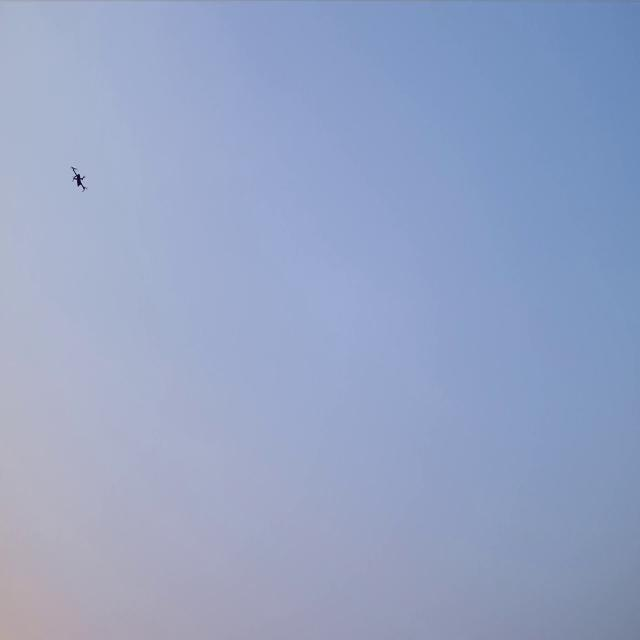UAV: (69, 165, 90, 194)
